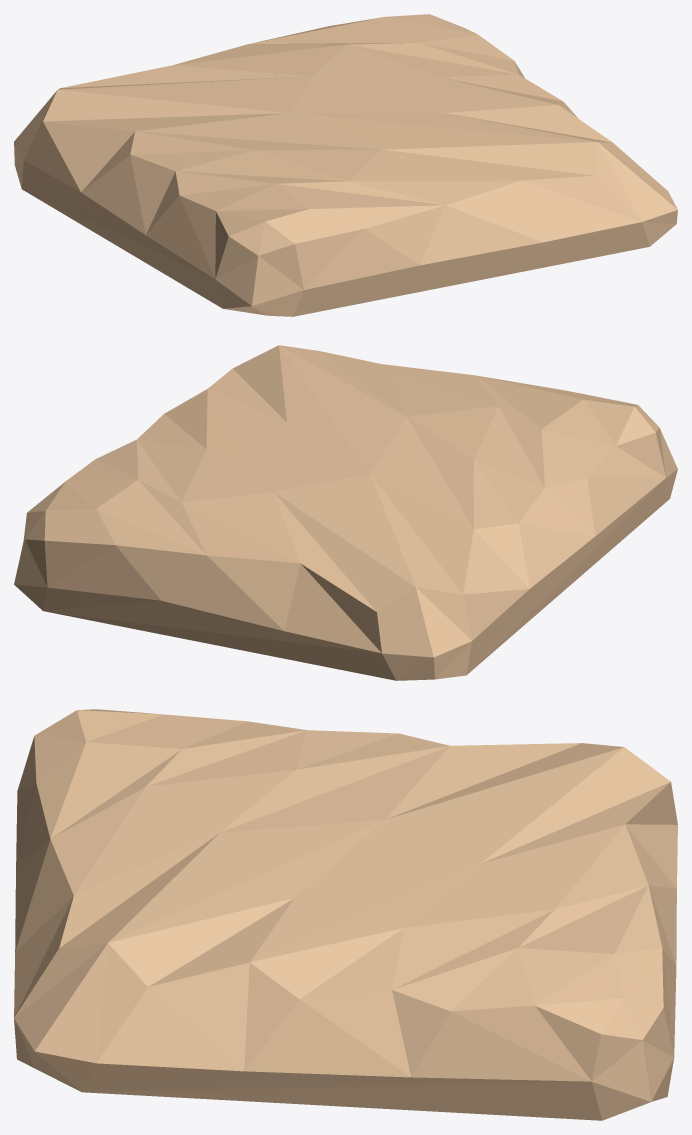
File: bread_top.fbx
3 views of the same model, one above another, from view 1: azimuth 30°, elevation 25°; view 2: azimuth 150°, elevation 25°; view 3: azimuth 270°, elevation 25° (orthographic). The views are drawn at different scales.
Visible parts, largest first — view 1: bread_top; view 2: bread_top; view 3: bread_top.
Part boxes in pixels (<box>): bread_top: <box>14,14,677,316</box>; bread_top: <box>14,345,677,680</box>; bread_top: <box>14,709,677,1120</box>.
Size of the model in its own units: 1.36 by 0.3836 by 1.35.
